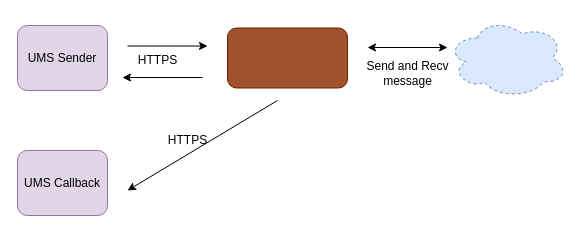
Some shapes in this 585 by 233 pixel diagram are drawn without their labels. Each missing label, with the box of its shape:
Whatsapp Cloud API: (226, 27, 348, 88)
whatsapp Server: (446, 17, 568, 98)
